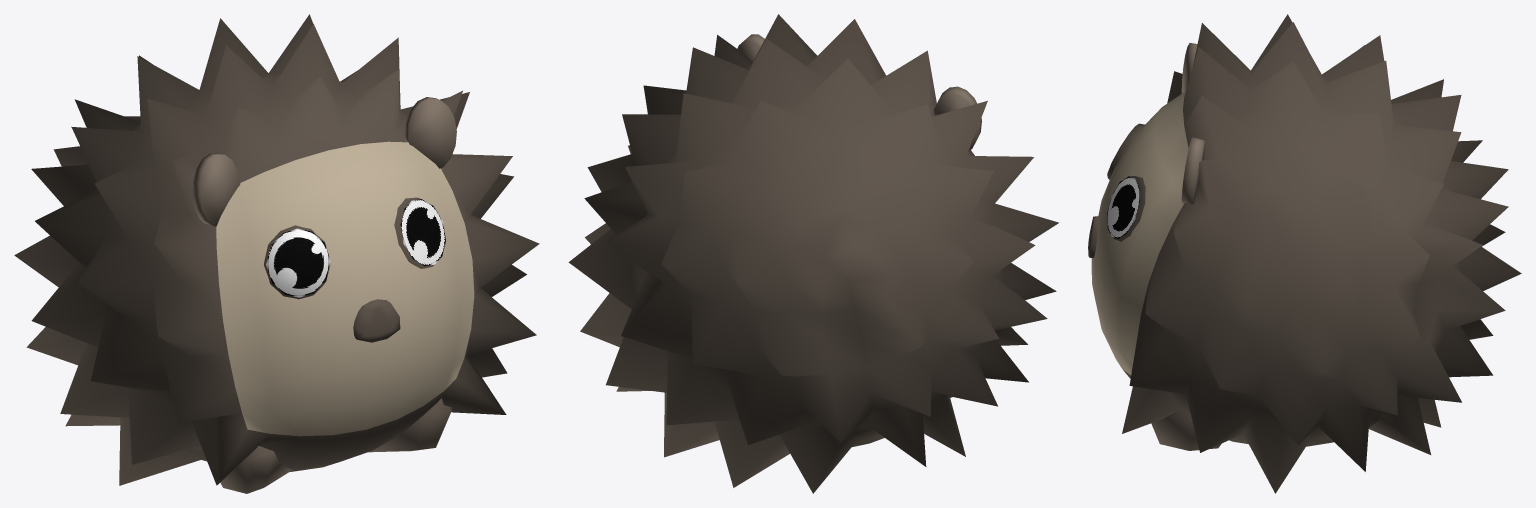
Rendered from hedgehog_sphere_model1.fbx.
3 renders of one model, left to right at view 1: azimuth 30°, elevation 25°; view 2: azimuth 150°, elevation 25°; view 3: azimuth 270°, elevation 25°, orthographic. The views are drawn at different scales.
Parts seen in each view (by area): view 1: hedgehog_sphere_test.001; view 2: hedgehog_sphere_test.001; view 3: hedgehog_sphere_test.001.
Part boxes in pixels (x1=…): hedgehog_sphere_test.001: x1=14, y1=14, x2=539, y2=493; hedgehog_sphere_test.001: x1=568, y1=14, x2=1058, y2=493; hedgehog_sphere_test.001: x1=1088, y1=14, x2=1521, y2=493.
Bounding box in the file's own units: 124 × 111 × 113.
